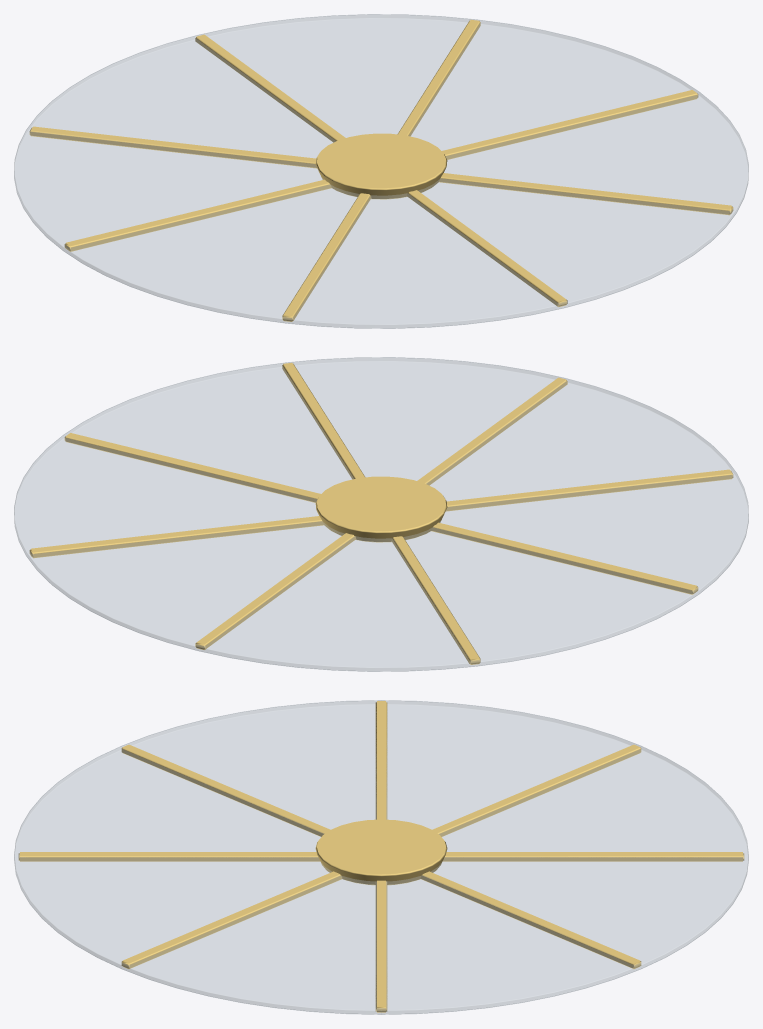
Rendered from boss_arena_glass.glb.
The picture shows the model from 3 angles, top to bottom: view 1: azimuth 30°, elevation 25°; view 2: azimuth 150°, elevation 25°; view 3: azimuth 270°, elevation 25°; orthographic projection.
Parts seen in each view (by area): view 1: GlassDisk, CenterGlassHub, Mullion_-0.79, Mullion_0.00, Mullion_1.57, Mullion_0.79; view 2: GlassDisk, CenterGlassHub, Mullion_0.79, Mullion_0.00, Mullion_1.57, Mullion_-0.79; view 3: GlassDisk, CenterGlassHub, Mullion_1.57, Mullion_0.79, Mullion_-0.79, Mullion_0.00.
Part boxes in pixels (left/top/right/bottom): GlassDisk: left=14, top=14, right=748, bottom=328; CenterGlassHub: left=315, top=133, right=447, bottom=199; Mullion_-0.79: left=29, top=126, right=733, bottom=215; Mullion_0.00: left=64, top=90, right=698, bottom=251; Mullion_1.57: left=195, top=34, right=567, bottom=306; Mullion_0.79: left=282, top=19, right=480, bottom=321; GlassDisk: left=14, top=357, right=748, bottom=671; CenterGlassHub: left=315, top=476, right=447, bottom=542; Mullion_0.79: left=29, top=469, right=733, bottom=558; Mullion_0.00: left=64, top=433, right=698, bottom=594; Mullion_1.57: left=195, top=377, right=567, bottom=649; Mullion_-0.79: left=282, top=362, right=480, bottom=664; GlassDisk: left=14, top=700, right=748, bottom=1014; CenterGlassHub: left=315, top=819, right=447, bottom=885; Mullion_1.57: left=18, top=852, right=744, bottom=861; Mullion_0.79: left=121, top=744, right=641, bottom=968; Mullion_-0.79: left=121, top=744, right=641, bottom=968; Mullion_0.00: left=375, top=701, right=387, bottom=1012.
Bounding box in the file's own units: 11.24 × 0.24 × 11.24.
